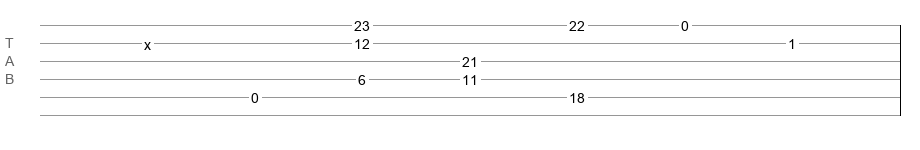0: (251, 90, 259, 100), (681, 18, 689, 28)
1: (788, 36, 796, 46)
11: (462, 72, 478, 82)
12: (354, 36, 370, 46)
18: (569, 90, 585, 100)
21: (462, 54, 478, 64)
22: (569, 18, 585, 28)
23: (354, 18, 370, 28)
6: (358, 72, 366, 82)
x: (144, 37, 151, 45)
